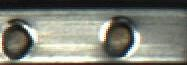40ngpress: (120, 0, 186, 65)
joints: (98, 14, 141, 62), (0, 17, 36, 63)
